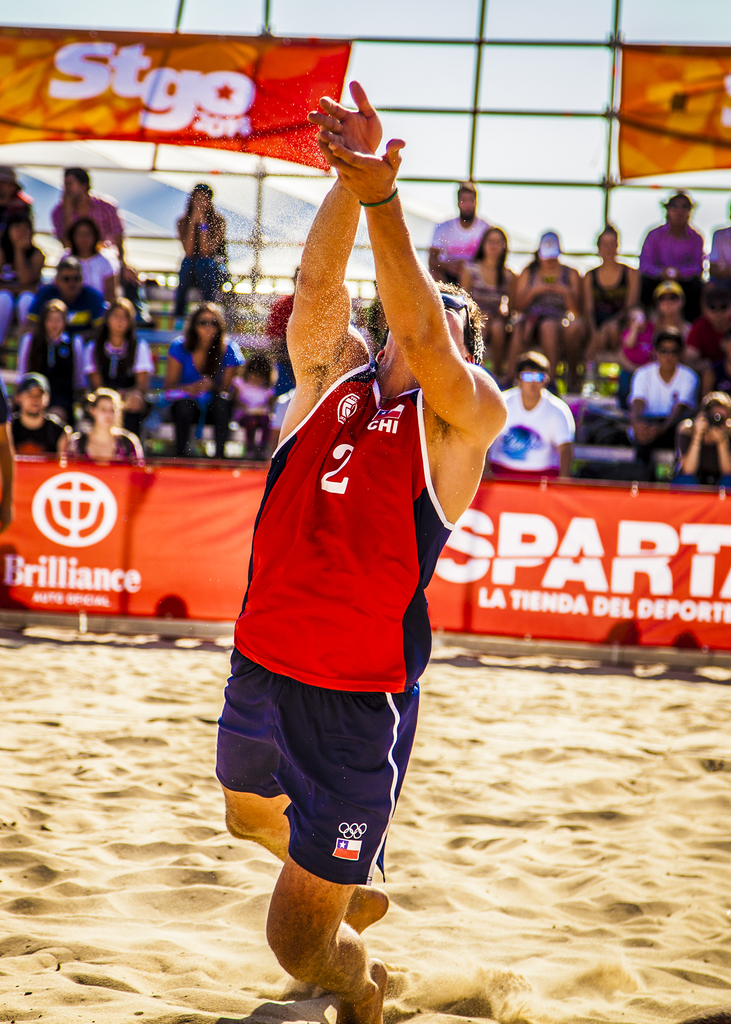person: (172, 179, 227, 323)
